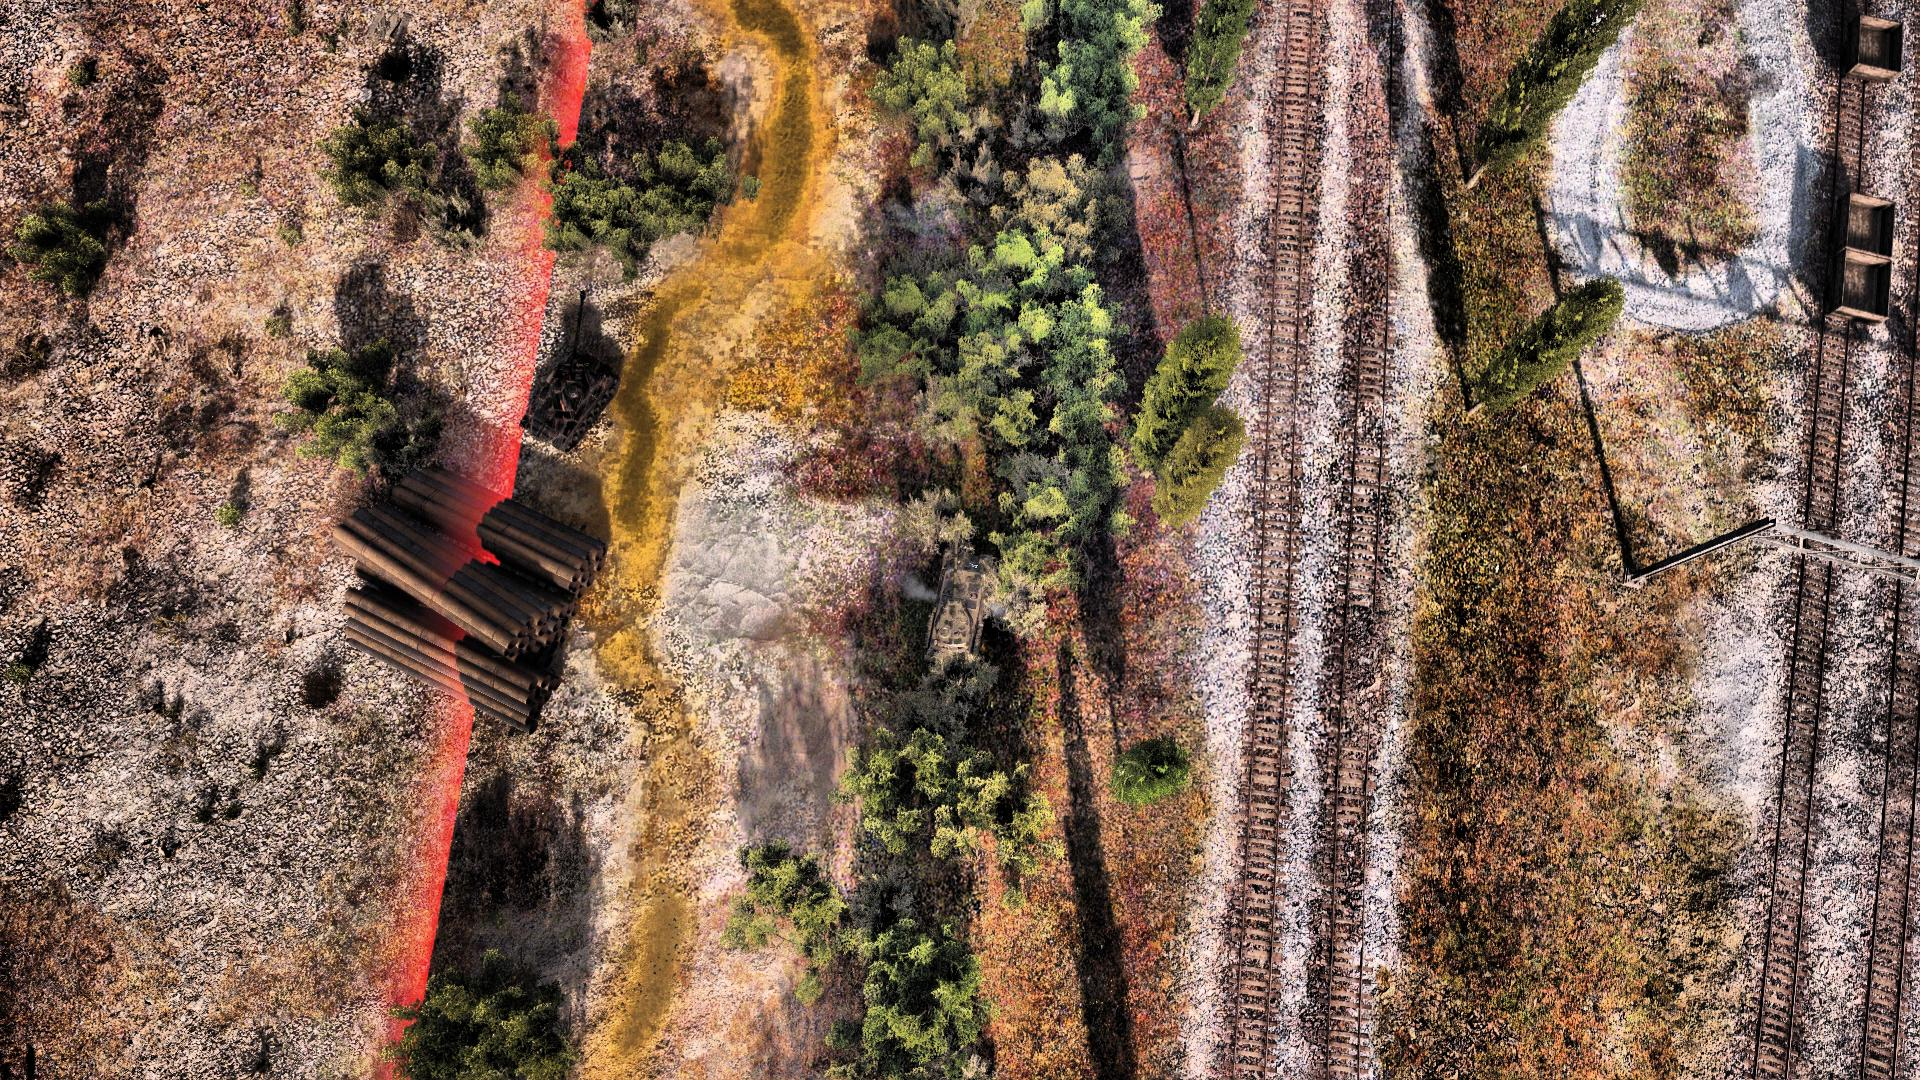military-vehicle: (517, 291, 620, 452), (920, 529, 1000, 669)
